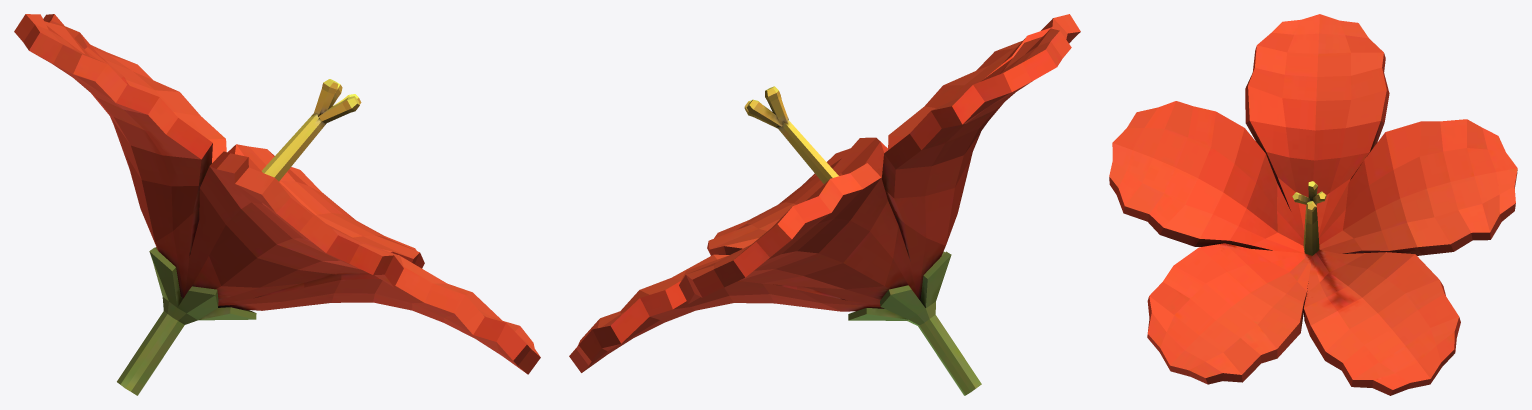
Rendered from Orange Flower-transformed.glb.
3 views of the same model, side by side, from view 1: azimuth 30°, elevation 25°; view 2: azimuth 150°, elevation 25°; view 3: azimuth 270°, elevation 25° (orthographic). The views are drawn at different scales.
Parts seen in each view (by area): view 1: hibiscus_flower; view 2: hibiscus_flower; view 3: hibiscus_flower.
Part boxes in pixels (x1,y1,x2,y2): hibiscus_flower: [14, 14, 540, 395]; hibiscus_flower: [569, 14, 1080, 395]; hibiscus_flower: [1109, 14, 1517, 395].
Bounding box in the file's own units: 1.39 × 1.17 × 1.71.
1 material, 1 textured.
